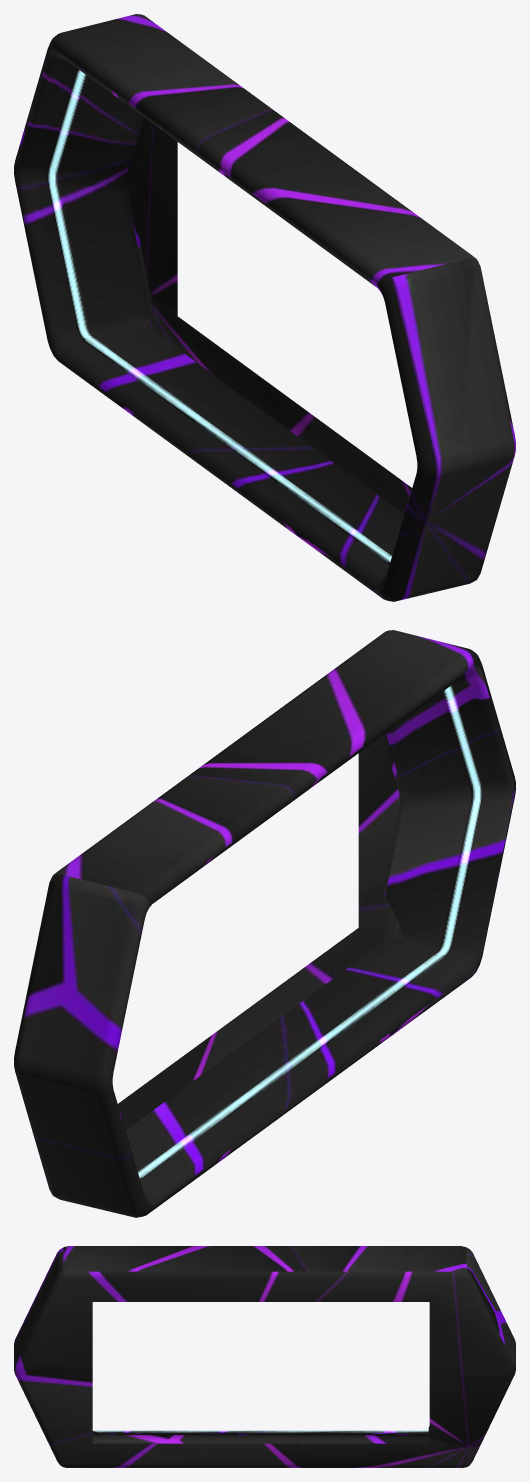
The model's file is space-window.glb.
3 views of the same model, one above another, from view 1: azimuth 30°, elevation 25°; view 2: azimuth 150°, elevation 25°; view 3: azimuth 270°, elevation 25° (orthographic). The views are drawn at different scales.
Parts seen in each view (by area): view 1: SM_large_window; view 2: SM_large_window; view 3: SM_large_window.
Boxes of the visible parts, x1=… form: SM_large_window: x1=14, y1=14, x2=515, y2=601; SM_large_window: x1=14, y1=630, x2=515, y2=1217; SM_large_window: x1=14, y1=1246, x2=515, y2=1467.
Bounding box in the file's own units: 0.527 × 1.7 × 3.9.
Materials: 1 (1 with a texture image).
